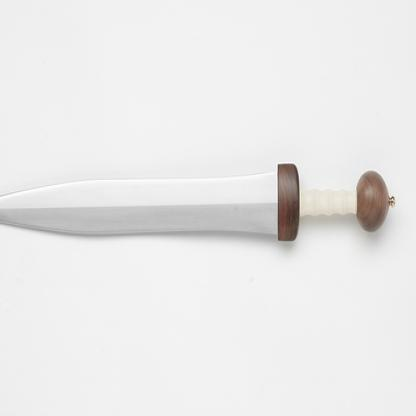knife: (0, 155, 397, 245)
